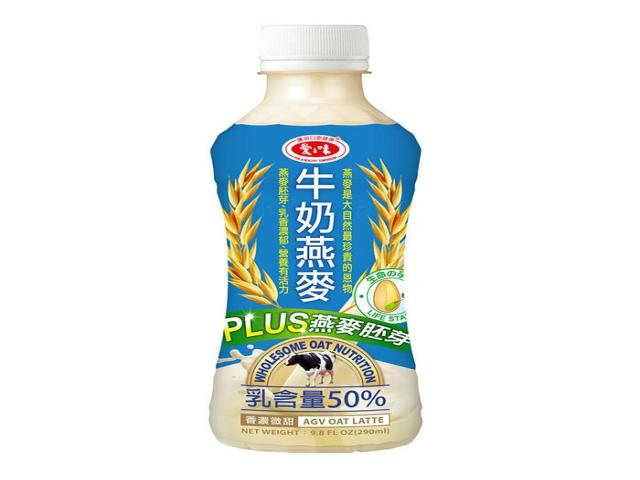bottle: (210, 25, 421, 452)
